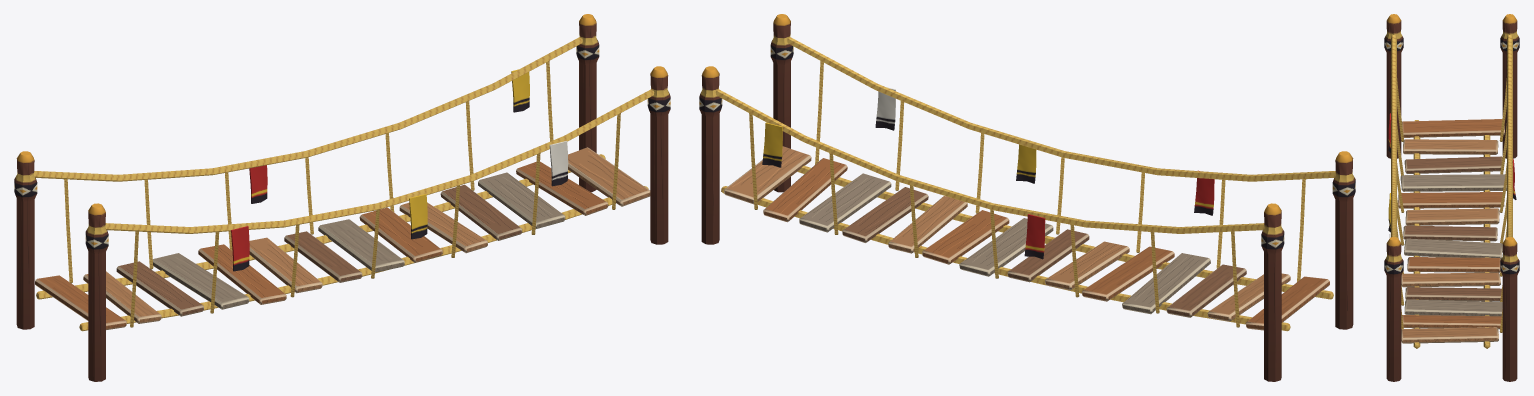
Rendered from rope_bridge.glb.
3 renders of one model, left to right at view 1: azimuth 30°, elevation 25°; view 2: azimuth 150°, elevation 25°; view 3: azimuth 270°, elevation 25°, orthographic. The views are drawn at different scales.
Visible parts, largest first — view 1: rope_bridge, rope_bridge__posts; view 2: rope_bridge, rope_bridge__posts; view 3: rope_bridge, rope_bridge__posts.
Boxes of the visible parts, bbox=[...] form: rope_bridge: bbox=[34, 37, 654, 331]; rope_bridge__posts: bbox=[14, 14, 670, 381]; rope_bridge: bbox=[715, 37, 1335, 331]; rope_bridge__posts: bbox=[699, 14, 1355, 381]; rope_bridge: bbox=[1388, 34, 1516, 348]; rope_bridge__posts: bbox=[1384, 14, 1519, 381].
Size of the model in its own units: 7.15 by 2.02 by 1.77.
1 material, 1 textured.
